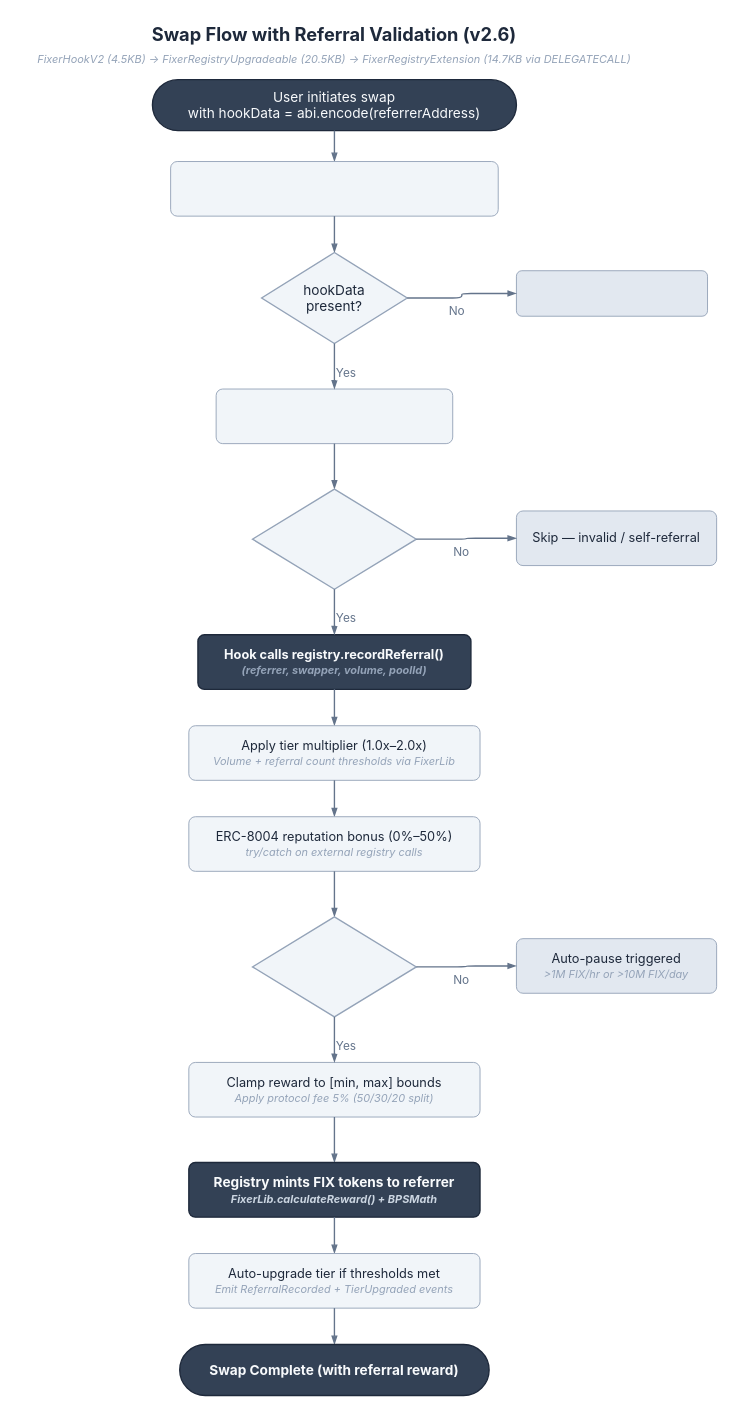
This 733x1411 diagram has some shape labels left out. The shapes that lost their labels are listed below. From the top down, each one's centre as x and y in pixels, then its label:
[334,188]: FixerHookV2.afterSwap() Observation-only — never modifies swap
[612,293]: Normal swap (no rewards)
[334,416]: Decode referrer from hookData & calculate volume in quote token
[334,538]: referrer valid & != tx.origin?
[334,966]: Circuit breaker threshold OK?
